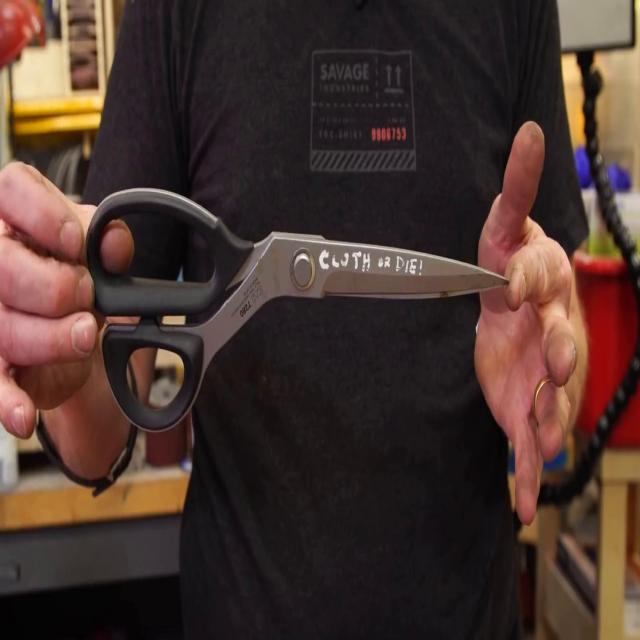scissor: (86, 189, 510, 430)
